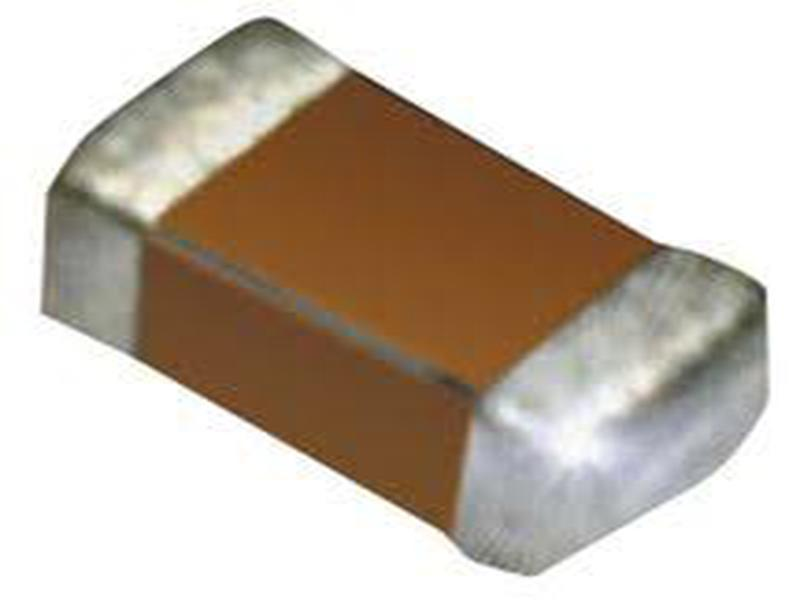SMD capacitor: (35, 15, 776, 579)
